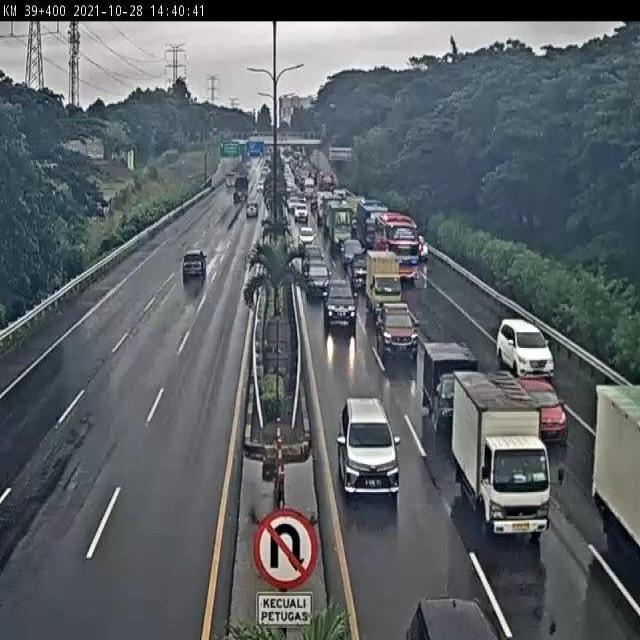big bus: (372, 215, 419, 276)
car: (338, 399, 399, 492), (514, 372, 567, 444), (496, 316, 554, 379), (376, 301, 419, 359), (323, 279, 355, 321), (304, 259, 329, 293), (348, 253, 368, 287), (181, 250, 205, 278), (299, 245, 323, 271), (339, 237, 360, 264)
small truck: (454, 368, 552, 541), (423, 340, 479, 423), (367, 254, 406, 314)
